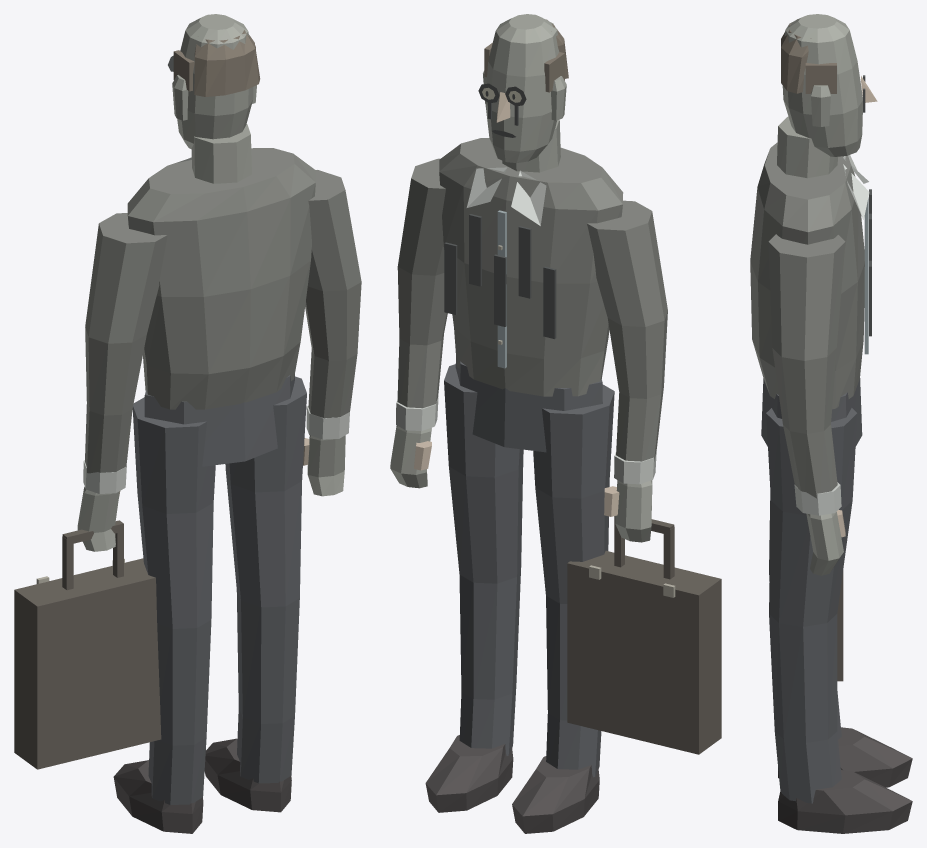
The model's file is 05_ash_commuter.gltf.
3 renders of one model, left to right at view 1: azimuth 30°, elevation 25°; view 2: azimuth 150°, elevation 25°; view 3: azimuth 270°, elevation 25°, orthographic. The views are drawn at different scales.
Parts seen in each view (by area): view 1: shirt_torso_5, briefcase_28, L_trouser_0, R_trouser_2, left_sleeve_6, right_sleeve_10, pelvis_4, head_15, leather_shoe_1, leather_shoe_3, hair_back_24, neck_14 (+4 smaller); view 2: shirt_torso_5, briefcase_28, R_trouser_2, L_trouser_0, left_sleeve_6, right_sleeve_10, head_15, pelvis_4, leather_shoe_3, leather_shoe_1, hand_8, hand_12 (+11 smaller); view 3: R_trouser_2, right_sleeve_10, shirt_torso_5, head_15, leather_shoe_3, leather_shoe_1, neck_14, hand_12, pelvis_4, hair_back_24, cuff_11, temple_hair_26 (+4 smaller).
Boxes of the visible parts, x1,y1,x2,y2 form: shirt_torso_5: (127,148,315,409); briefcase_28: (14,558,161,769); L_trouser_0: (132,397,215,804); R_trouser_2: (225,376,306,783); left_sleeve_6: (85,213,167,473); right_sleeve_10: (305,170,361,418); pelvis_4: (144,374,294,466); head_15: (177,14,253,149); leather_shoe_1: (113,760,203,833); leather_shoe_3: (204,738,291,812); hair_back_24: (194,30,260,96); neck_14: (191,124,251,183); shirt_torso_5: (439,138,623,396); briefcase_28: (567,550,721,754); R_trouser_2: (444,364,523,755); L_trouser_0: (533,384,614,777); left_sleeve_6: (587,200,667,461); right_sleeve_10: (397,158,447,408); head_15: (485,14,559,162); pelvis_4: (455,358,602,452); leather_shoe_3: (425,735,513,812); leather_shoe_1: (512,756,599,833); hand_8: (615,480,652,542); hand_12: (390,425,431,488); R_trouser_2: (766,408,857,803); right_sleeve_10: (768,234,845,498); shirt_torso_5: (750,142,864,409); head_15: (782,14,862,156); leather_shoe_3: (778,770,912,833); leather_shoe_1: (778,727,912,787); neck_14: (777,116,837,178); hand_12: (806,512,843,575); pelvis_4: (761,378,862,446); hair_back_24: (781,19,811,93); cuff_11: (794,482,841,515); temple_hair_26: (805,63,836,93).
Size of the model in its own units: 0.77 by 1.78 by 0.338.
